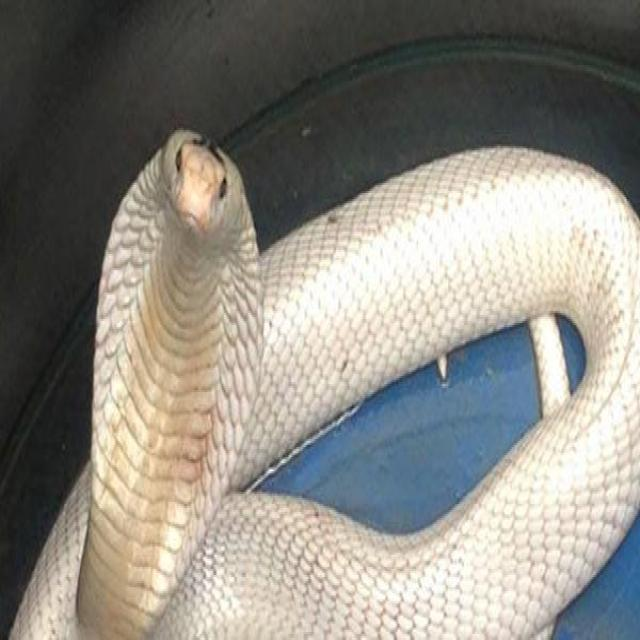Venomous: (84, 121, 280, 533)
